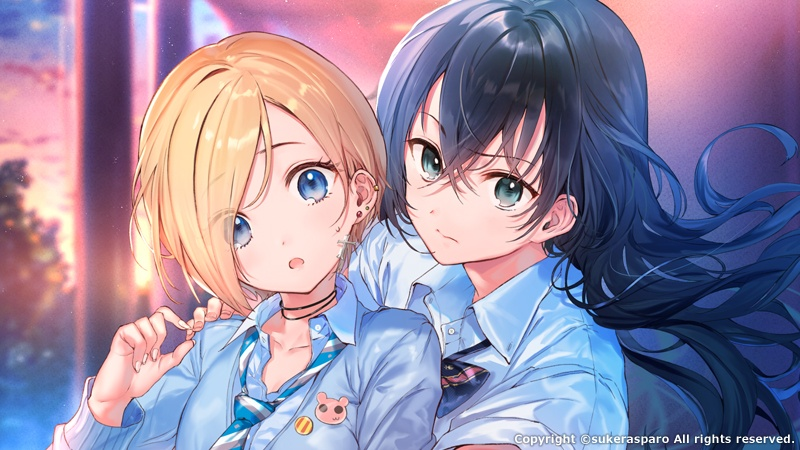纸片人正脸: (378, 0, 637, 274), (138, 30, 391, 299)
